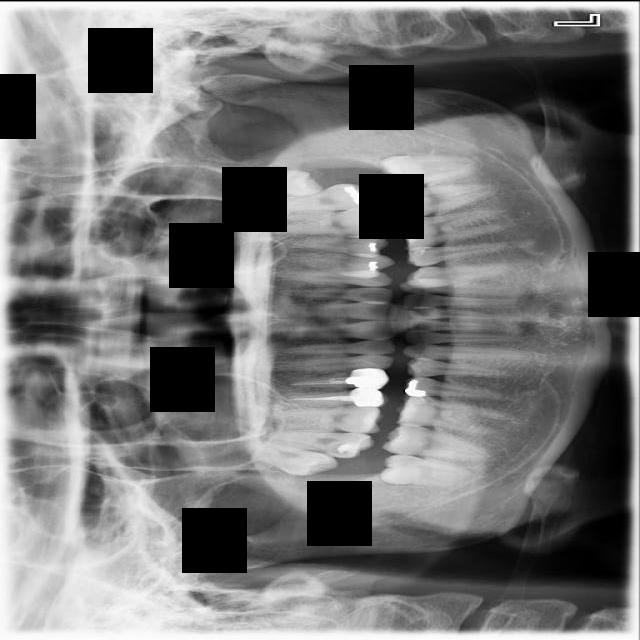3M ESPE Implant: (244, 435, 339, 480)
52: (322, 430, 379, 459), (339, 251, 394, 280), (337, 206, 380, 239), (330, 181, 376, 211), (343, 233, 389, 259), (346, 385, 389, 407), (347, 366, 389, 388), (402, 374, 439, 397)
73: (286, 369, 354, 391), (283, 389, 351, 406), (550, 32, 558, 36)
BioHorizons Implant: (271, 180, 376, 213)
BioLife Implant: (227, 168, 322, 196)
Biomet 3i Implant: (381, 151, 483, 189)
Blue Sky Bio Implant: (383, 173, 501, 221)
Caries: (264, 429, 374, 459)
Implant: (381, 420, 489, 461)
Keystone Dental Implant: (379, 451, 474, 490)
